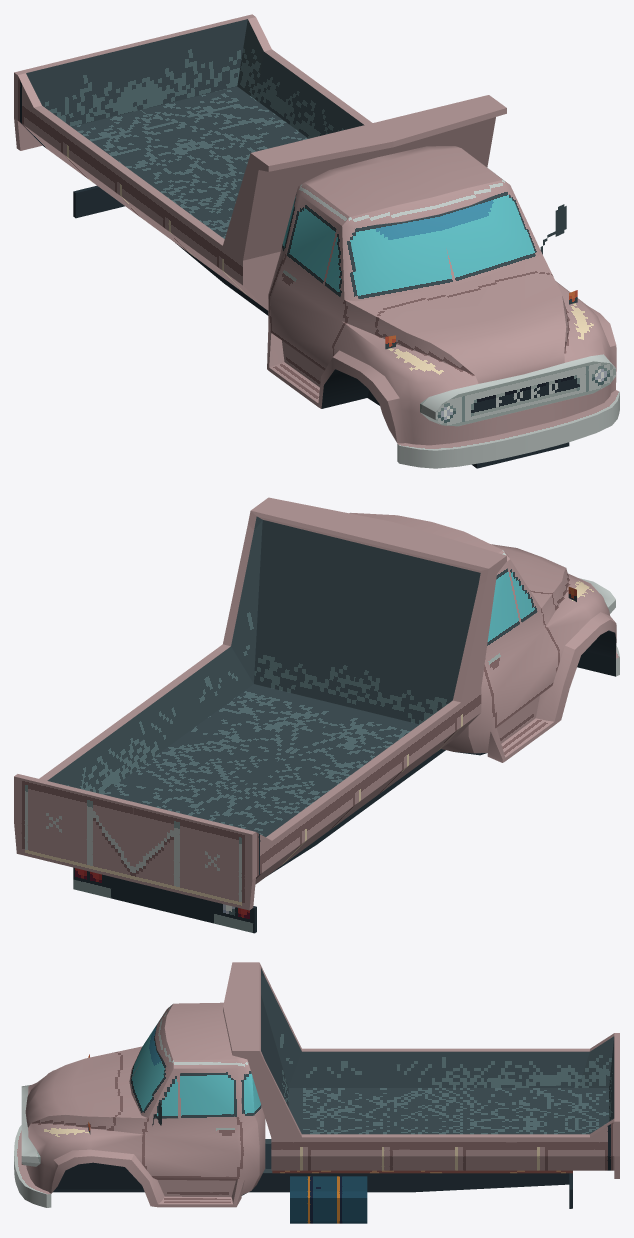
Rendered from ford_thamestrader.glb.
3 views of the same model, one above another, from view 1: azimuth 30°, elevation 25°; view 2: azimuth 150°, elevation 25°; view 3: azimuth 270°, elevation 25° (orthographic). The views are drawn at different scales.
Visible parts, largest first — view 1: Body, MiscBed; view 2: MiscBed, Body; view 3: MiscBed, Body.
Boxes of the visible parts, bbox=[...] form: Body: bbox=[73, 146, 619, 468]; MiscBed: bbox=[14, 14, 506, 310]; MiscBed: bbox=[14, 497, 506, 910]; Body: bbox=[73, 512, 619, 933]; MiscBed: bbox=[223, 962, 619, 1178]; Body: bbox=[14, 1002, 572, 1223].
Bounding box in the file's own units: 2.55 × 2.3 × 6.87.
2 materials, 2 textured.
